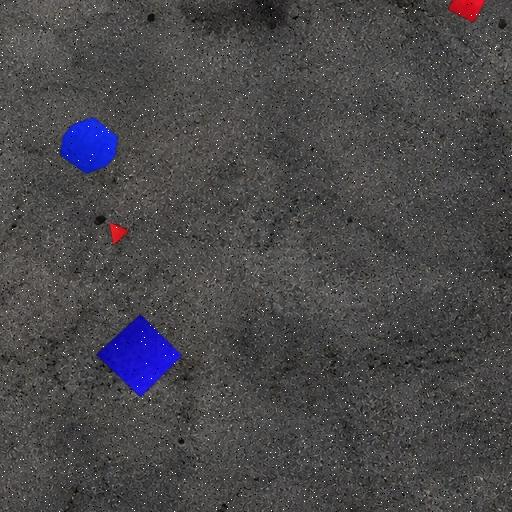BLUE_SQUARE: (96, 314, 182, 398)
RED_SQUARE: (447, 0, 490, 23)
